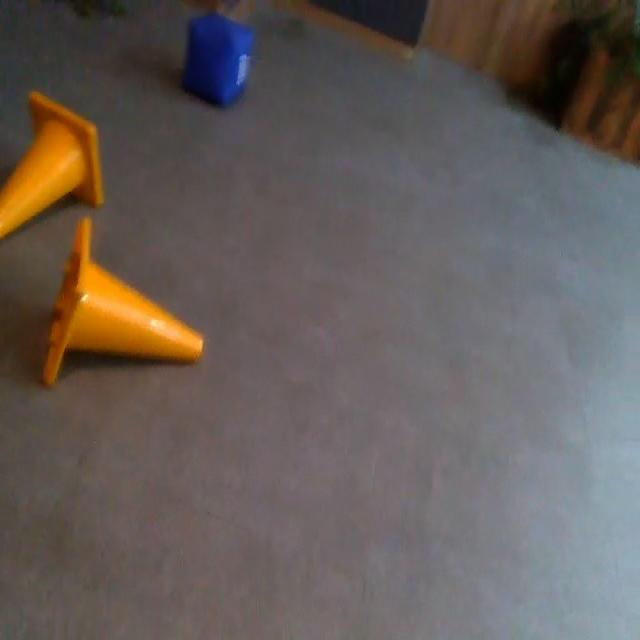cone: (38, 226, 208, 380), (0, 90, 105, 238)
cube: (187, 14, 250, 108)
